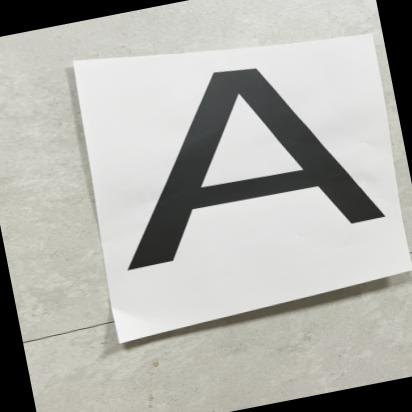seat: (81, 30, 412, 285)
